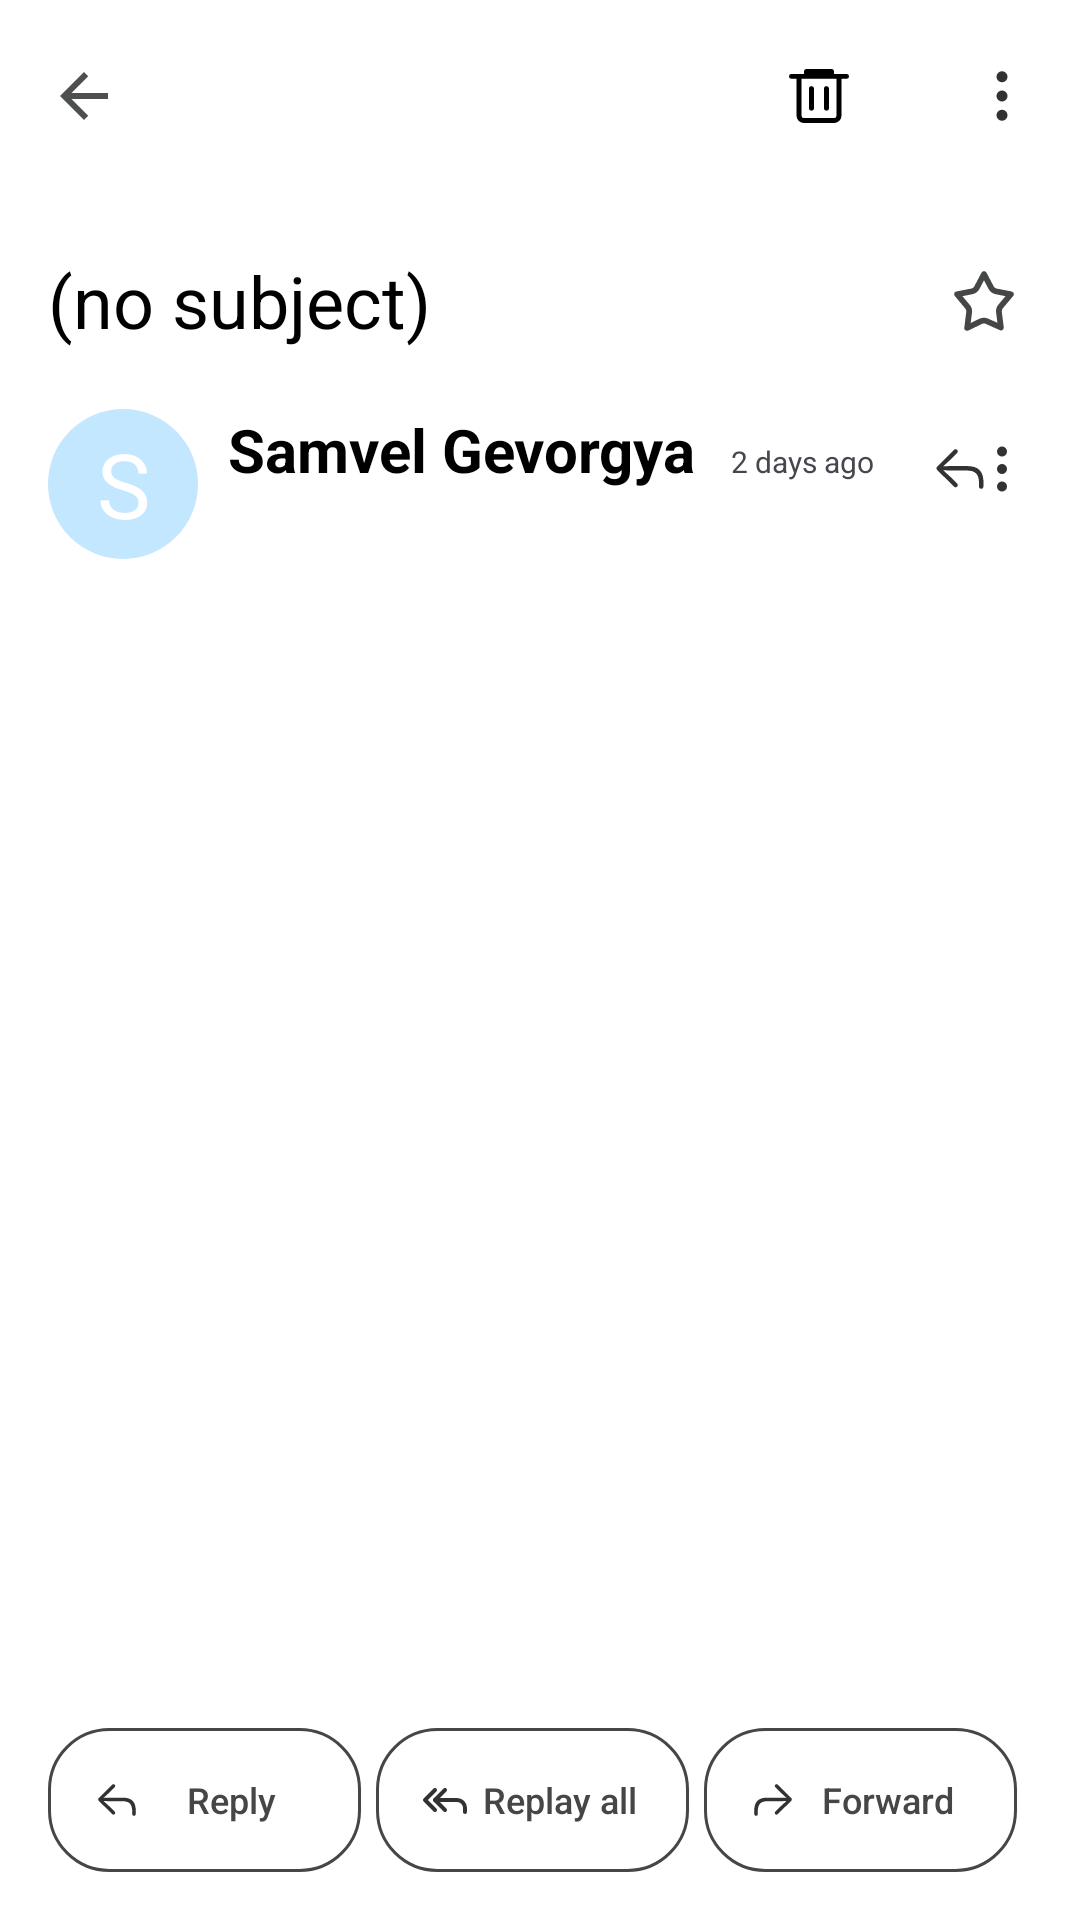

Named icons in this screenshot (1080 × 1920) and their centers, (x,y):
delete: (819,96)
star: (984,301)
